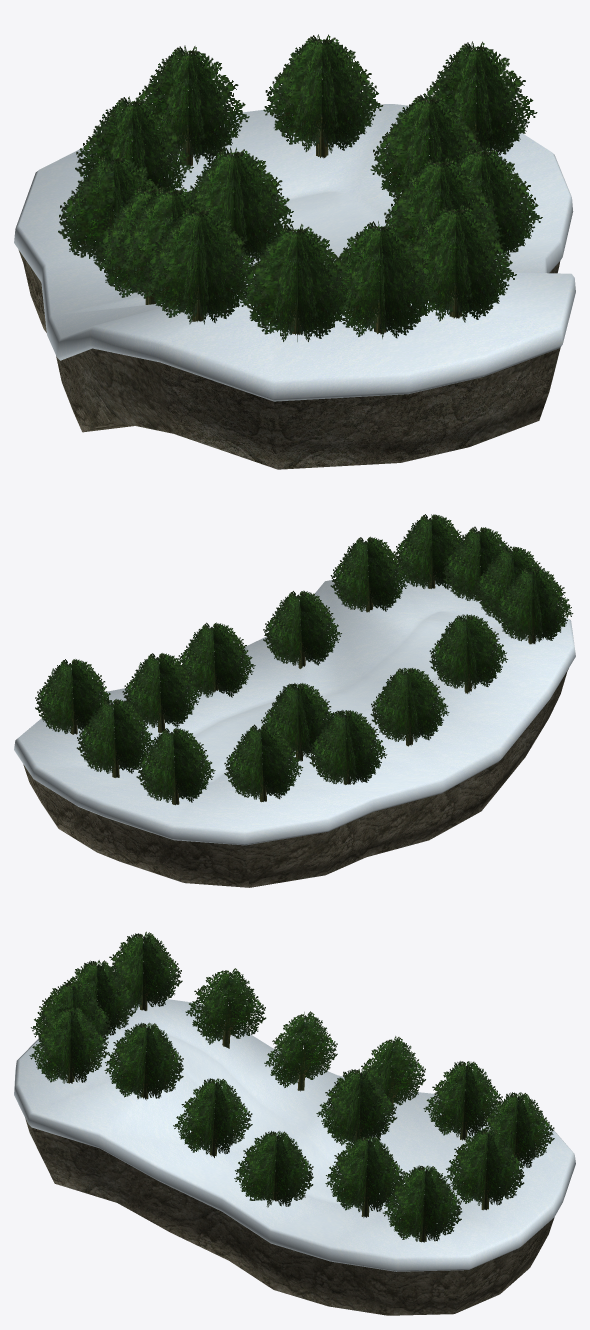
The model's file is SkiTestA.fbx.
3 views of the same model, one above another, from view 1: azimuth 30°, elevation 25°; view 2: azimuth 150°, elevation 25°; view 3: azimuth 270°, elevation 25° (orthographic). The views are drawn at different scales.
Parts seen in each view (by area): view 1: Plane; view 2: Plane; view 3: Plane.
Part boxes in pixels (x1,y1,x2,y2): Plane: (14, 34, 575, 469); Plane: (14, 514, 575, 887); Plane: (14, 931, 575, 1315).
Bounding box in the file's own units: 1593446 × 766911 × 1860610.
3 materials, 3 textured.
